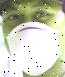with_mask: (1, 1, 65, 77)
